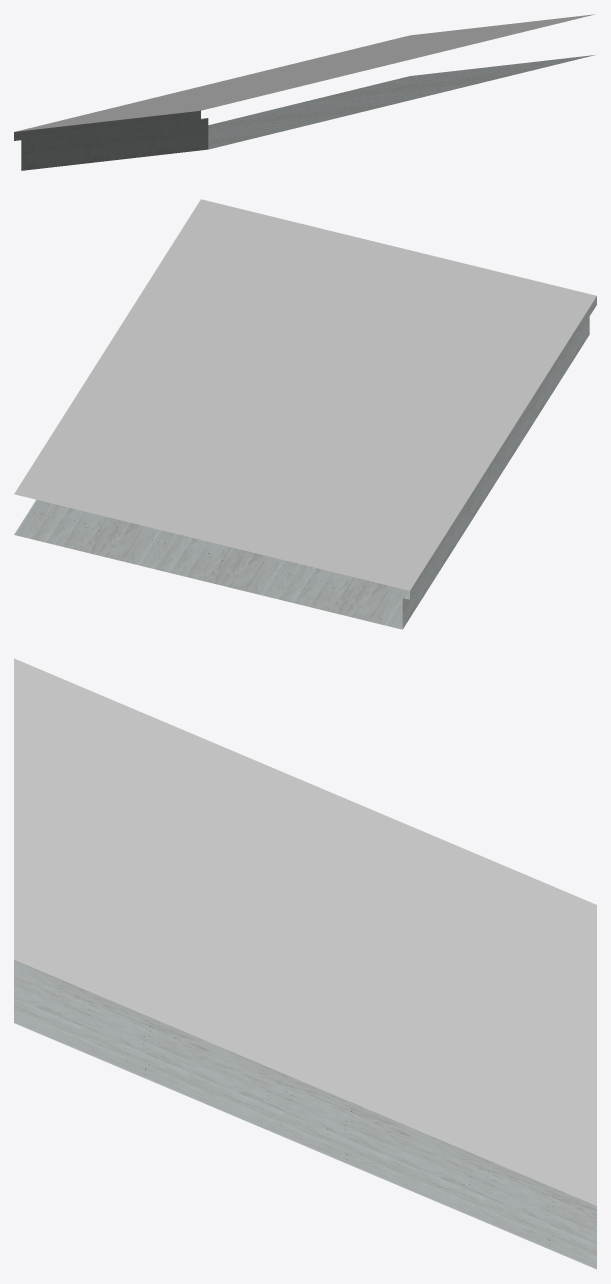
Rendered from SM_Roof_02_Mid_Edge_01.fbx.
3 renders of one model, top to bottom at view 1: azimuth 30°, elevation 25°; view 2: azimuth 150°, elevation 25°; view 3: azimuth 270°, elevation 25°, orthographic. The views are drawn at different scales.
Parts seen in each view (by area): view 1: SM_Roof_02_Mid_Edge_01_LOD0; view 2: SM_Roof_02_Mid_Edge_01_LOD0; view 3: SM_Roof_02_Mid_Edge_01_LOD0.
Boxes of the visible parts, box(x1,y1,x2,y2) form: SM_Roof_02_Mid_Edge_01_LOD0: box(14, 14, 594, 170); SM_Roof_02_Mid_Edge_01_LOD0: box(14, 199, 596, 629); SM_Roof_02_Mid_Edge_01_LOD0: box(14, 658, 596, 1269).
Size of the model in its own units: 183 by 150 by 88.
